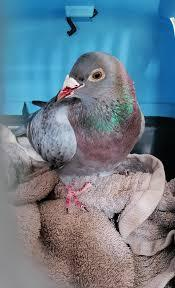bleeding: (56, 83, 79, 102)
